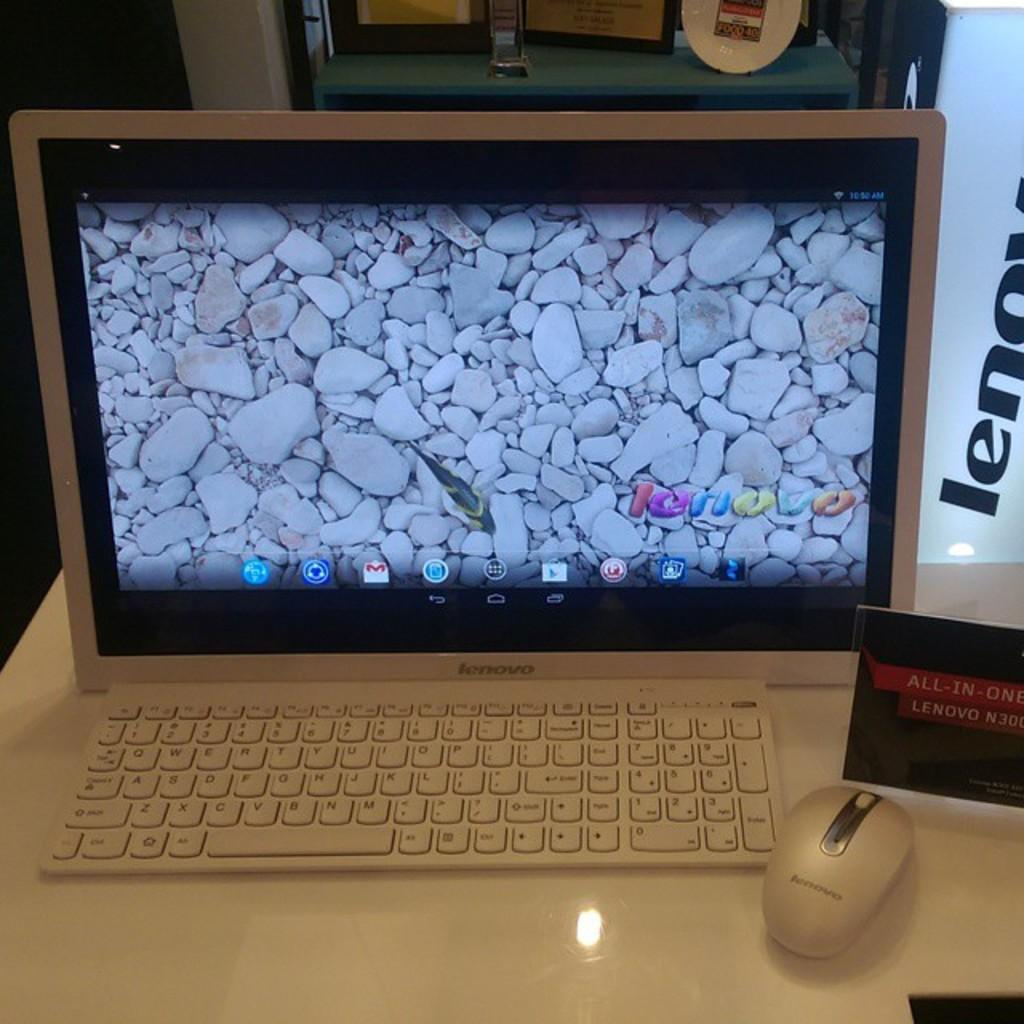Computer-mouse: (758, 779, 923, 954)
